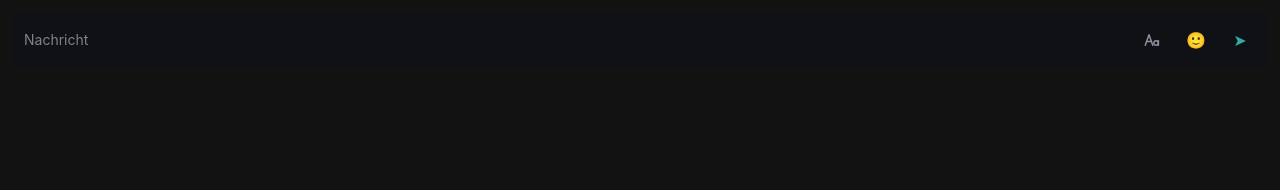
Test case: Composer: mention autocomplete › the slash-command palette keeps working and both never open at once
The width and height of the screenshot is (1280, 190).
Type "/m" into the dropdown labelled "Nachricht" at (574, 40), box left=20, top=20, right=1128, bottom=60
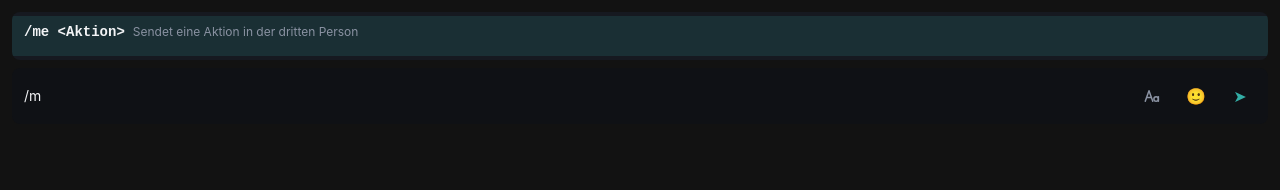
Check: the list with test id "command-palette" is shown, box left=12, top=12, right=1268, bottom=60
Clear the dropdown named "Nachricht" at (574, 96), box left=20, top=76, right=1128, bottom=116
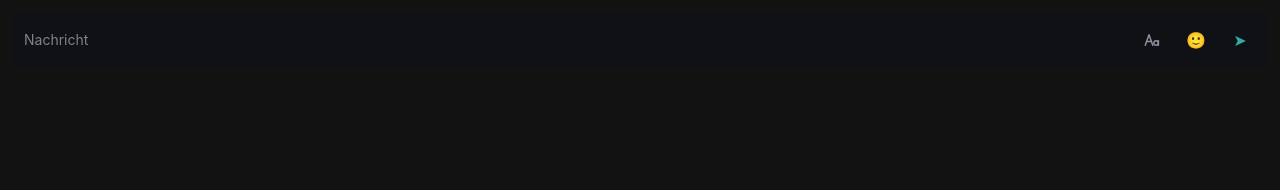
Type "/me winkt @ali" into the dropdown labelled "Nachricht" at (574, 40), box left=20, top=20, right=1128, bottom=60
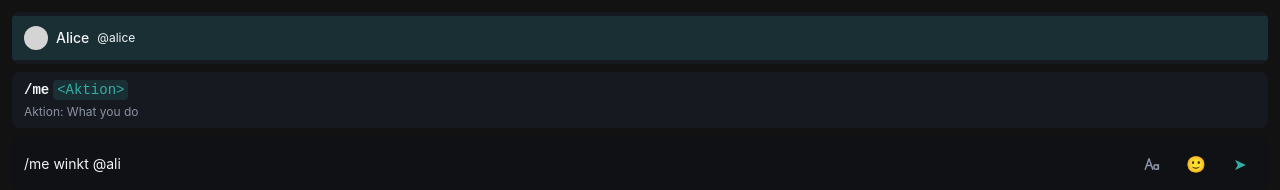
Check: the list named "Personen und Rollen zum Erwähnen" is shown, box left=12, top=12, right=1268, bottom=64
Press Enter
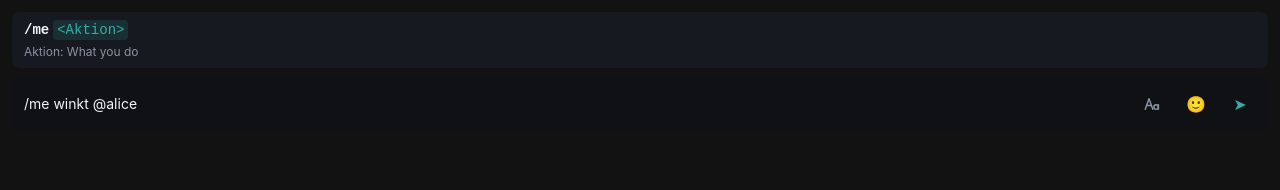
Check: the dropdown named "Nachricht" holds "/me winkt @alice ", box left=20, top=84, right=1128, bottom=124
